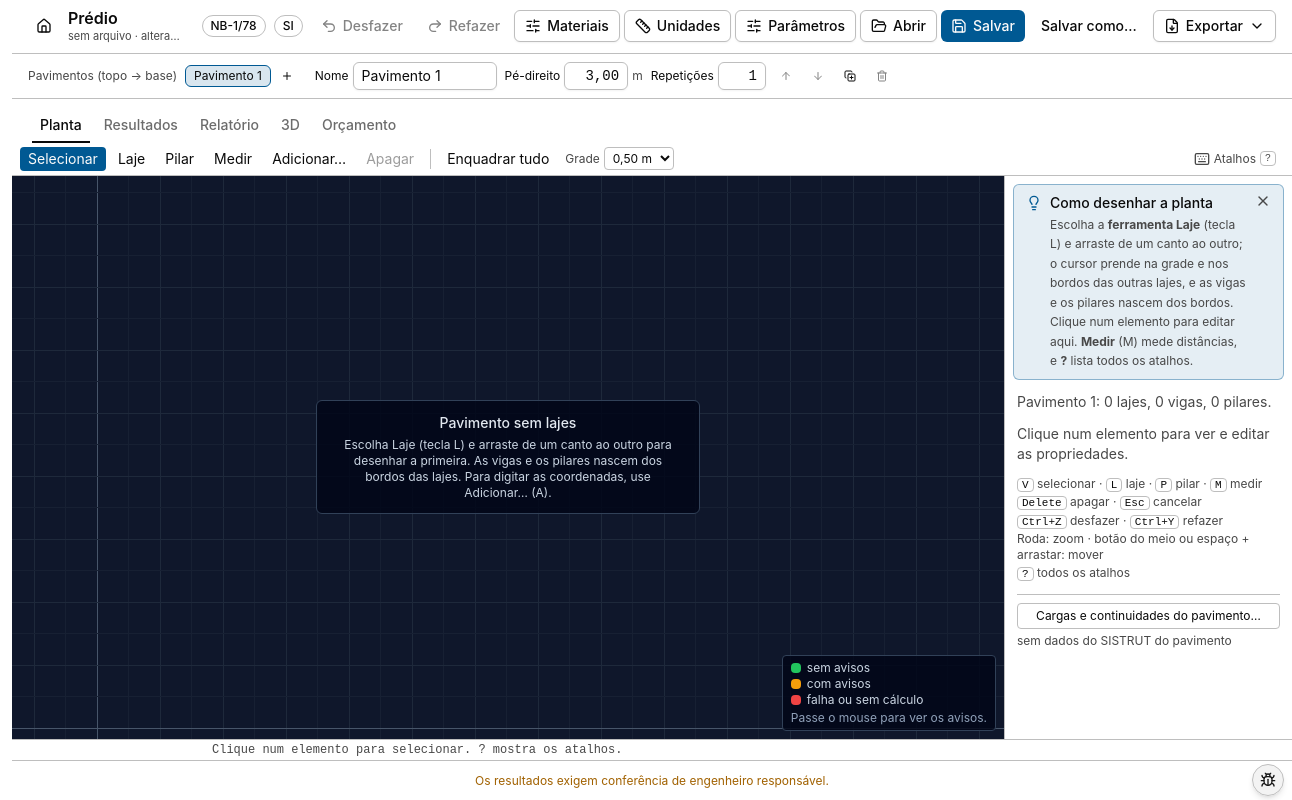
Test: barra de pavimentos › move o pavimento para cima e para baixo
Click the button named "Novo pavimento". click: (287, 76)
box: 275,64 -> 299,88
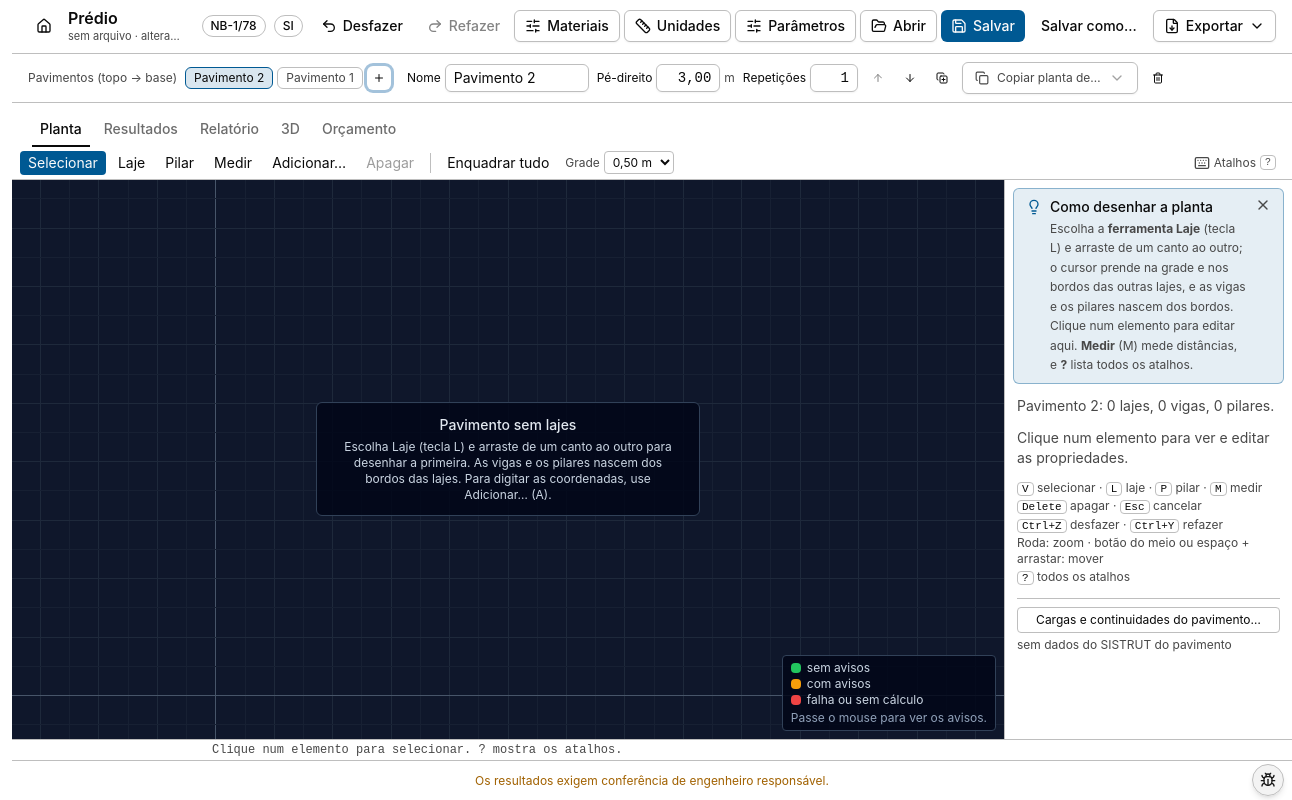
Expected: the button named "Subir pavimento" is disabled, 866,66 -> 890,90
Click the button named "Descer pavimento". click: (910, 78)
box: 898,66 -> 922,90
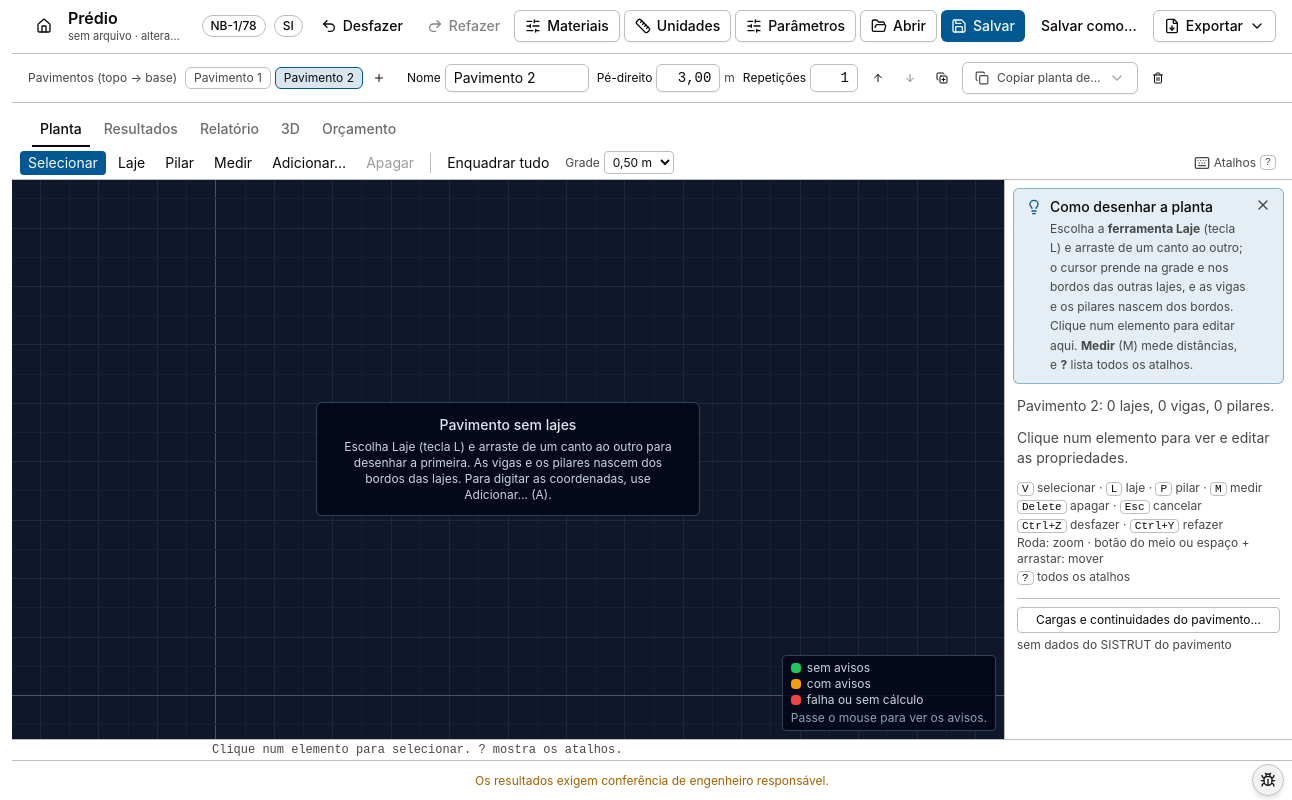
Expected: the button "Pavimento 2" is shown, 275,66 -> 363,88
Expected: the button named "Descer pavimento" is disabled, 898,66 -> 922,90
